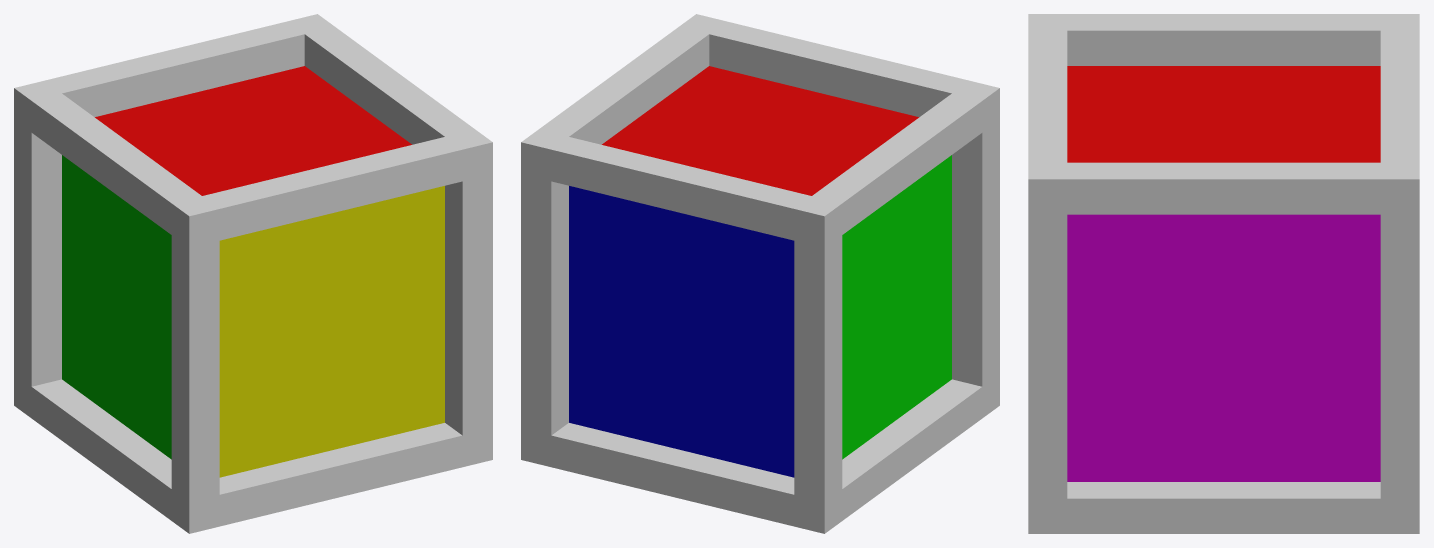
Rendered from Magic Die V3.fbx.
3 renders of one model, left to right at view 1: azimuth 30°, elevation 25°; view 2: azimuth 150°, elevation 25°; view 3: azimuth 270°, elevation 25°, orthographic. The views are drawn at different scales.
Visible parts, largest first — view 1: Cube; view 2: Cube; view 3: Cube.
Boxes of the visible parts, box(x1,y1,x2,y2) form: Cube: box(14, 14, 492, 533); Cube: box(521, 14, 999, 533); Cube: box(1028, 14, 1419, 533).
Size of the model in its own units: 100 by 100 by 100.
